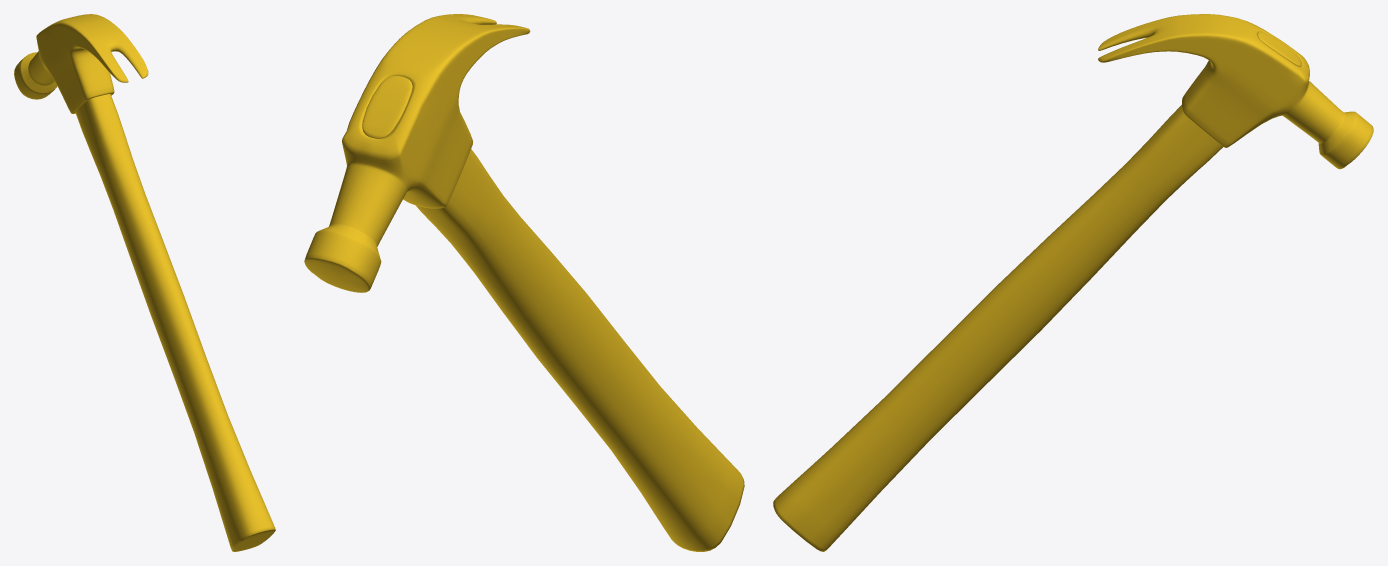
Rendered from carpenter.glb.
3 renders of one model, left to right at view 1: azimuth 30°, elevation 25°; view 2: azimuth 150°, elevation 25°; view 3: azimuth 270°, elevation 25°, orthographic. The views are drawn at different scales.
Parts seen in each view (by area): view 1: Ruchka, Boek; view 2: Ruchka, Boek; view 3: Ruchka, Boek.
Boxes of the visible parts, left/top/right/bottom form: Ruchka: left=75, top=94, right=275, bottom=551; Boek: left=14, top=14, right=148, bottom=113; Ruchka: left=362, top=75, right=744, bottom=551; Boek: left=304, top=14, right=530, bottom=292; Ruchka: left=773, top=31, right=1301, bottom=551; Boek: left=1098, top=14, right=1373, bottom=169.
Bounding box in the file's own units: 0.0232 × 0.2582 × 0.2682.
